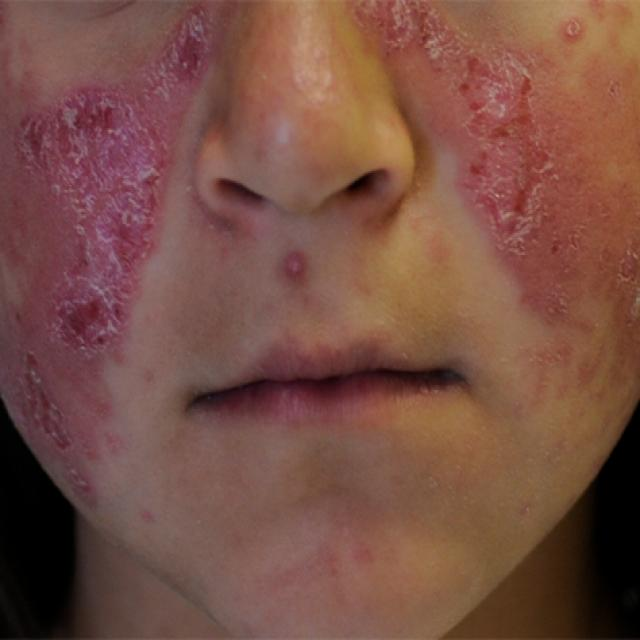lupus: (0, 2, 640, 462)
